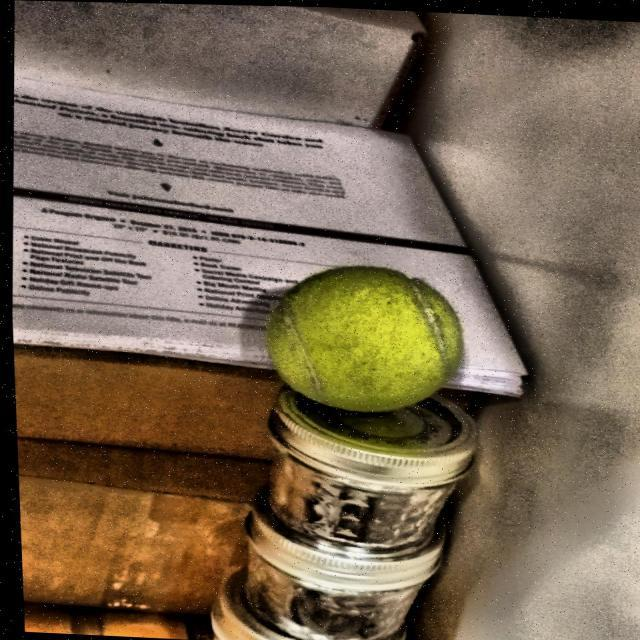tennis-ball: (250, 254, 472, 421)
